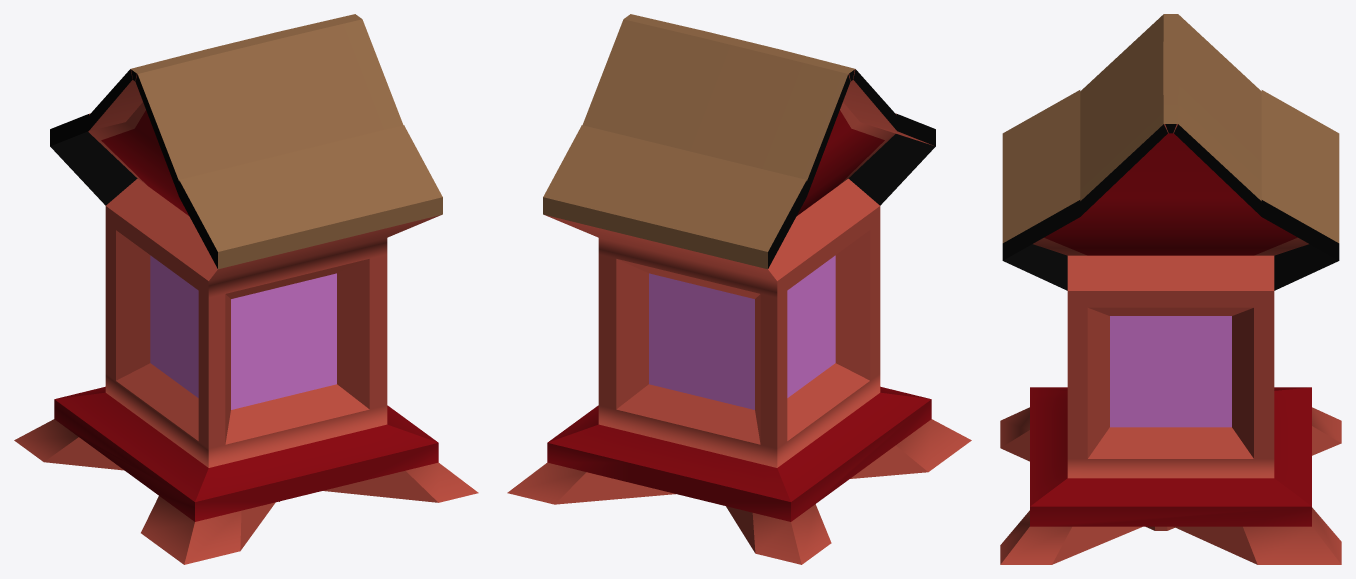
The model's file is floatinglanternprop_textured.fbx.
The picture shows the model from 3 angles, left to right: view 1: azimuth 30°, elevation 25°; view 2: azimuth 150°, elevation 25°; view 3: azimuth 270°, elevation 25°; orthographic projection.
Visible parts, largest first — view 1: floatinglanturn; view 2: floatinglanturn; view 3: floatinglanturn.
Part boxes in pixels (<box>): floatinglanturn: <box>14,14,478,564</box>; floatinglanturn: <box>507,14,971,564</box>; floatinglanturn: <box>1000,14,1341,564</box>.
Bounding box in the file's own units: 227 × 325 × 227.
